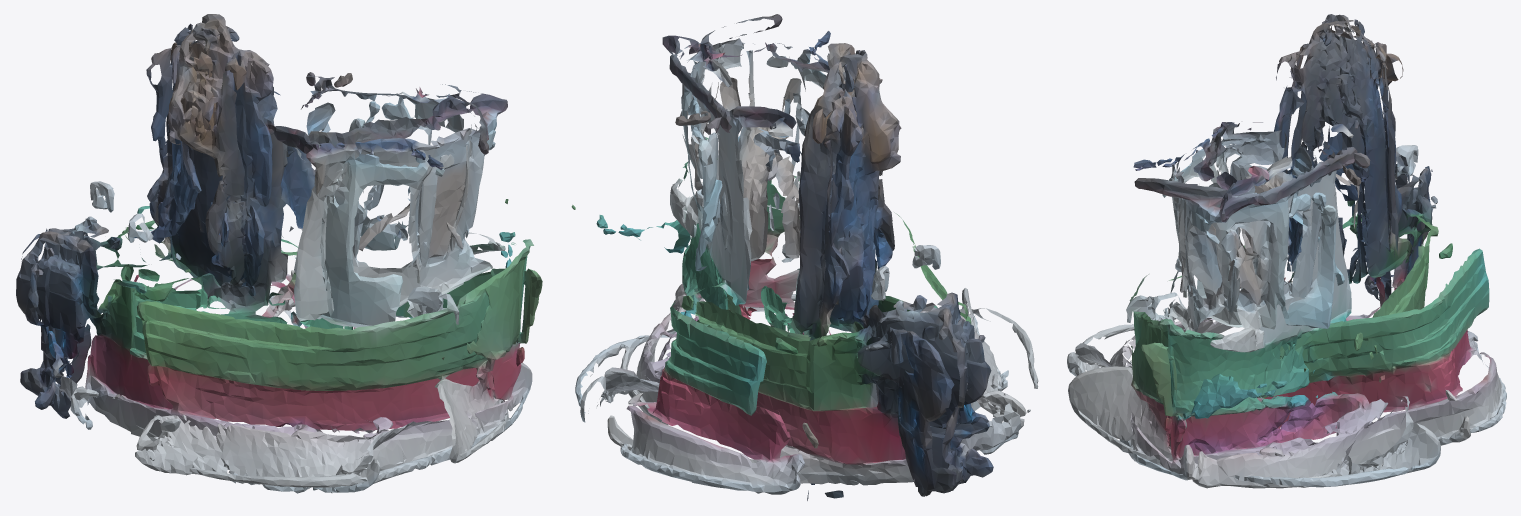
The model's file is finished_model_20260519_153224.glb.
The picture shows the model from 3 angles, left to right: view 1: azimuth 30°, elevation 25°; view 2: azimuth 150°, elevation 25°; view 3: azimuth 270°, elevation 25°; orthographic projection. The views are drawn at different scales.
Visible parts, largest first — view 1: finished_model_20260519_153224.ply; view 2: finished_model_20260519_153224.ply; view 3: finished_model_20260519_153224.ply.
Boxes of the visible parts, left/top/right/bottom form: finished_model_20260519_153224.ply: left=16, top=14, right=542, bottom=493; finished_model_20260519_153224.ply: left=571, top=14, right=1038, bottom=500; finished_model_20260519_153224.ply: left=1067, top=14, right=1506, bottom=488.
Bounding box in the file's own units: 0.1705 × 0.1732 × 0.1552.
